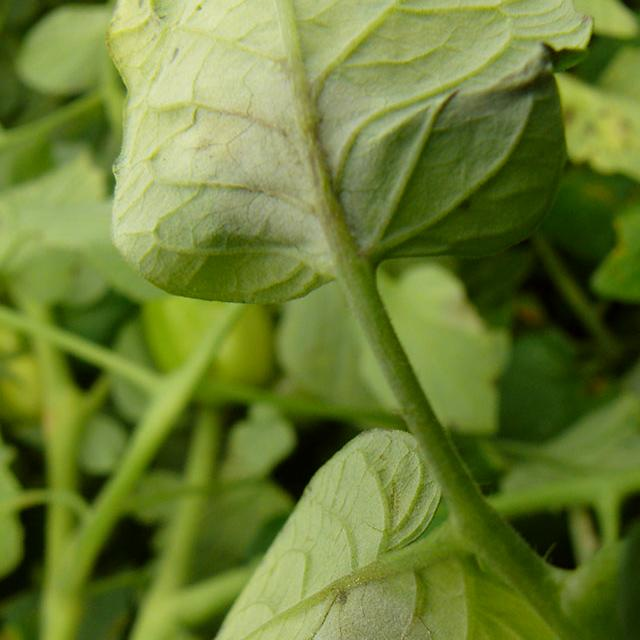Tomato leaf late blight: (83, 0, 614, 300), (167, 418, 601, 640)
